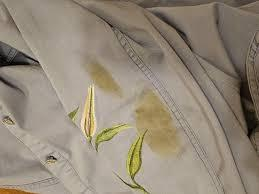earth: (136, 95, 167, 127), (89, 63, 112, 87), (151, 129, 175, 150)
